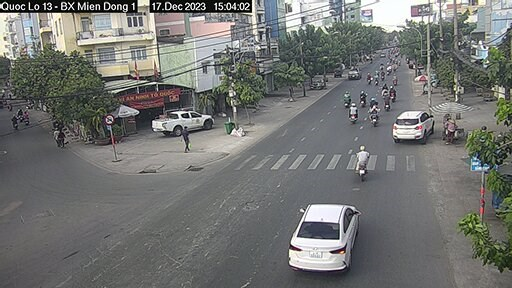car: (290, 196, 361, 271), (148, 101, 216, 141), (394, 104, 440, 148)
motorbike: (350, 140, 376, 178)
